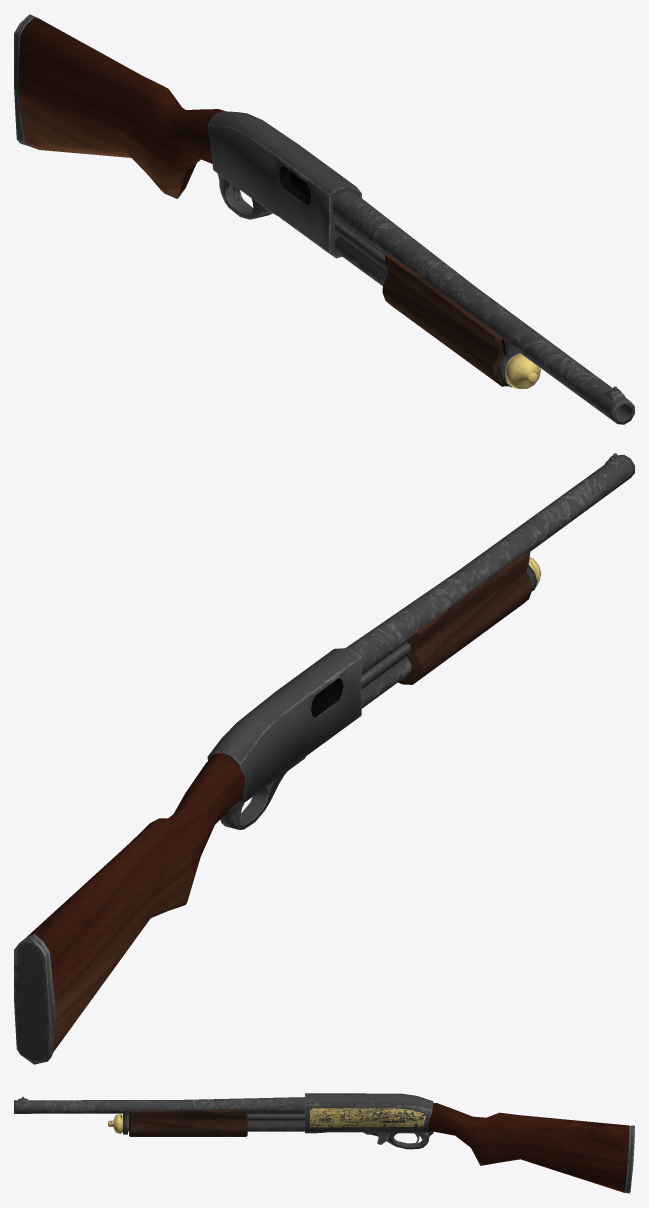
Rendered from simple_old_shotgun.glb.
3 views of the same model, one above another, from view 1: azimuth 30°, elevation 25°; view 2: azimuth 150°, elevation 25°; view 3: azimuth 270°, elevation 25° (orthographic). The views are drawn at different scales.
Visible parts, largest first — view 1: shotgun.006; view 2: shotgun.006; view 3: shotgun.006.
Part boxes in pixels (x1,y1,x2,y2): shotgun.006: [14, 14, 634, 424]; shotgun.006: [14, 453, 634, 1064]; shotgun.006: [14, 1093, 634, 1193].
Bounding box in the file's own units: 39.97 × 190 × 1085.
Materials: 1 (1 with a texture image).
